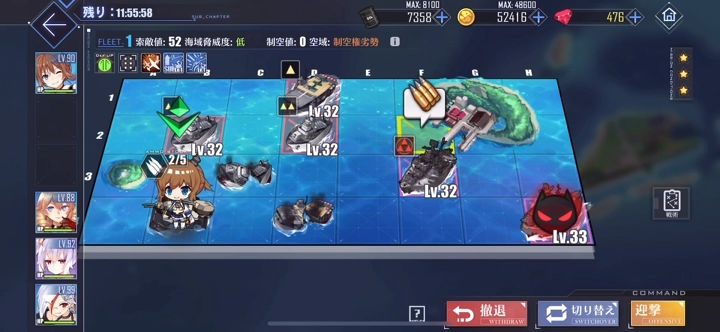boss: (523, 188, 591, 243)
lv1: (163, 94, 223, 153), (280, 58, 342, 111)
lv2: (277, 96, 337, 157)
lv3: (394, 135, 458, 194)
